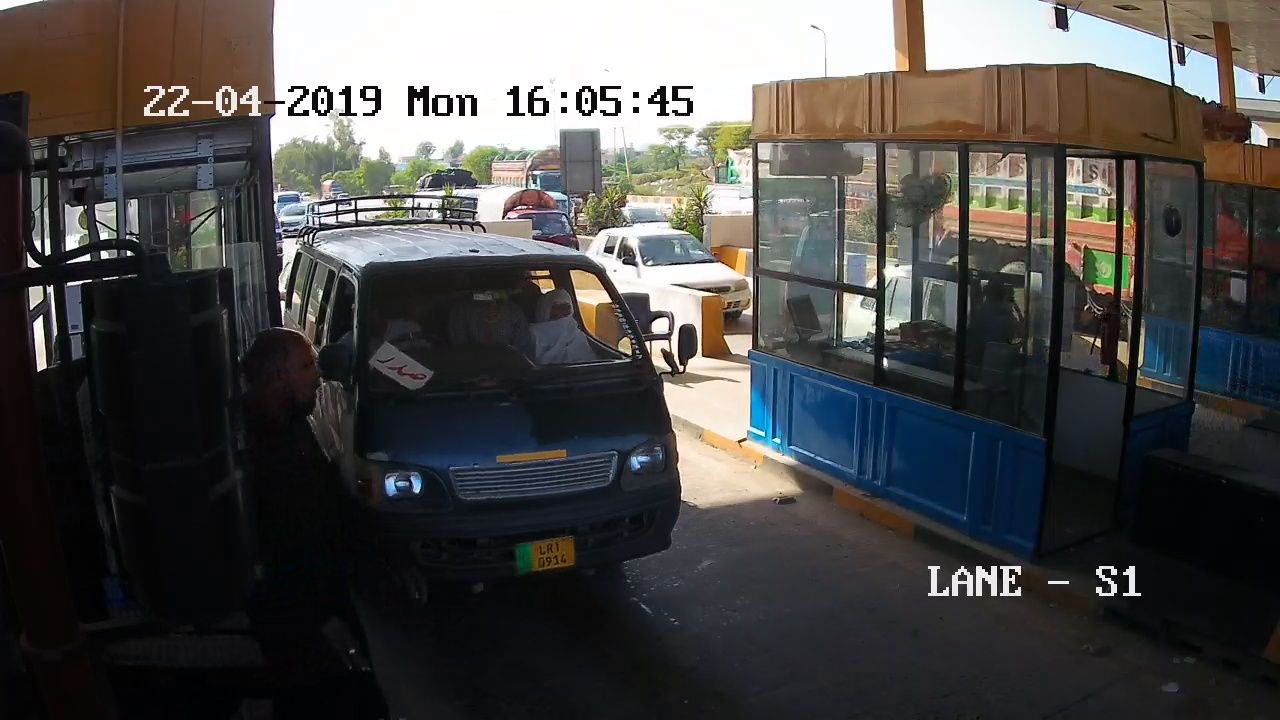Number Plate (Car): (509, 540, 577, 569)
